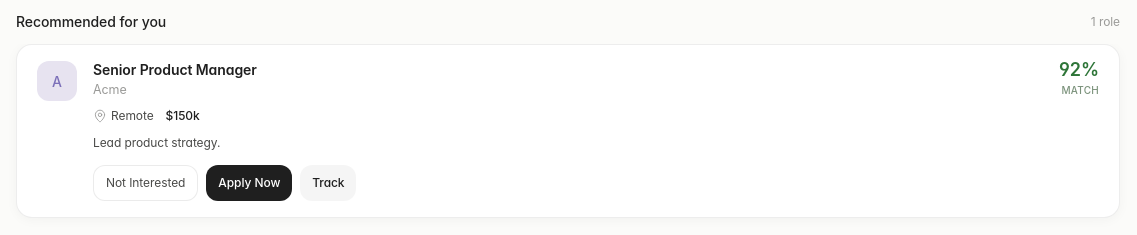
Scenario: SwipeJobDeck job details navigation › closes the job details when the back arrow is clicked
The width and height of the screenshot is (1137, 235).
Click the heading "Senior Product Manager".
click(175, 70)  # box [93,61,257,78]
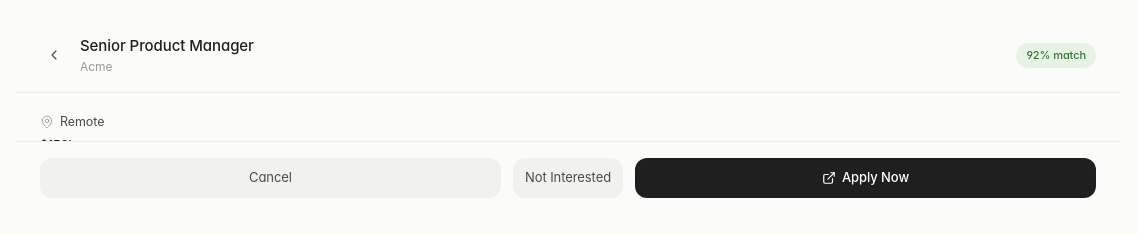
Now the button named "Back" is shown
Click the button named "Back".
click(54, 55)  # box [40,41,68,69]
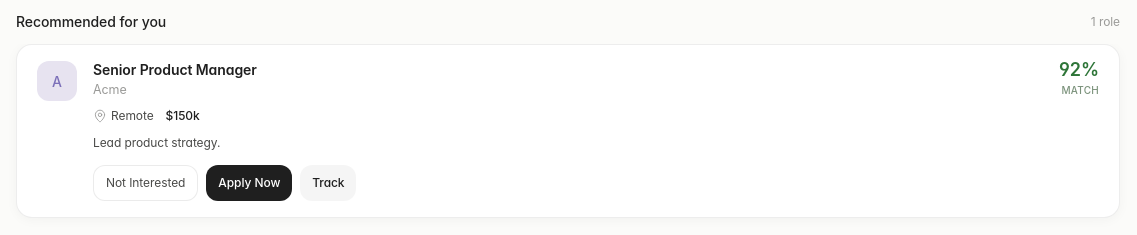
Now the button named "Back" is gone
